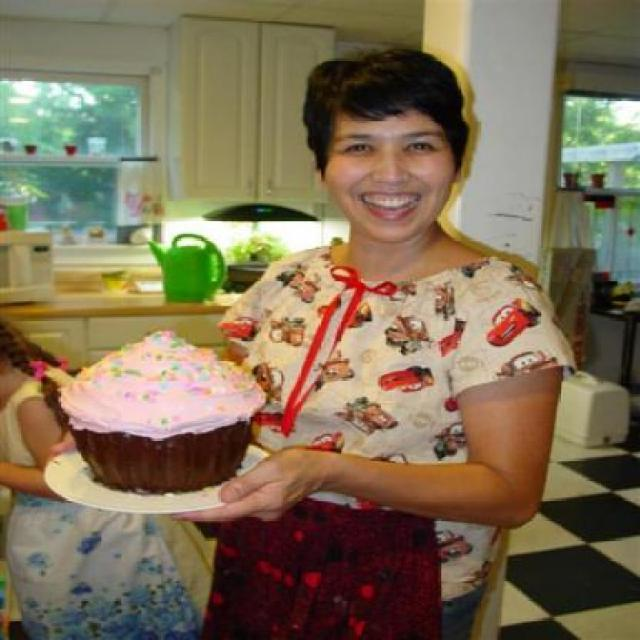Muffin: (50, 329, 262, 500)
